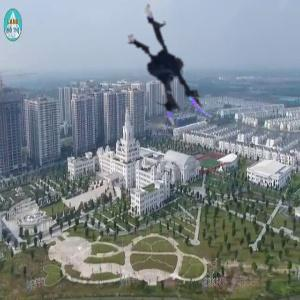drone: (115, 1, 245, 131)
